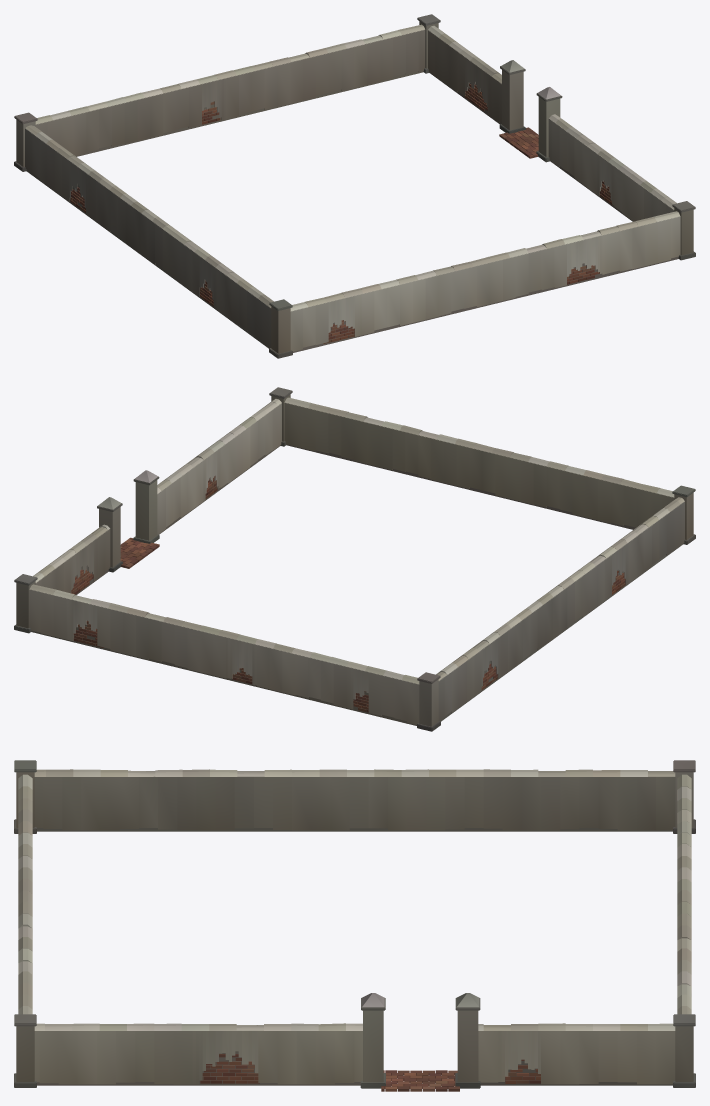
File: house_plots_2.glb
3 views of the same model, one above another, from view 1: azimuth 30°, elevation 25°; view 2: azimuth 150°, elevation 25°; view 3: azimuth 270°, elevation 25° (orthographic). The views are drawn at different scales.
Visible parts, largest first — view 1: house_plots_2_hb_main; view 2: house_plots_2_hb_main; view 3: house_plots_2_hb_main.
Part boxes in pixels (bbox=[...]): house_plots_2_hb_main: bbox=[14, 14, 695, 358]; house_plots_2_hb_main: bbox=[14, 387, 695, 731]; house_plots_2_hb_main: bbox=[14, 760, 695, 1091].
Bounding box in the file's own units: 11.54 × 1.81 × 12.46.
